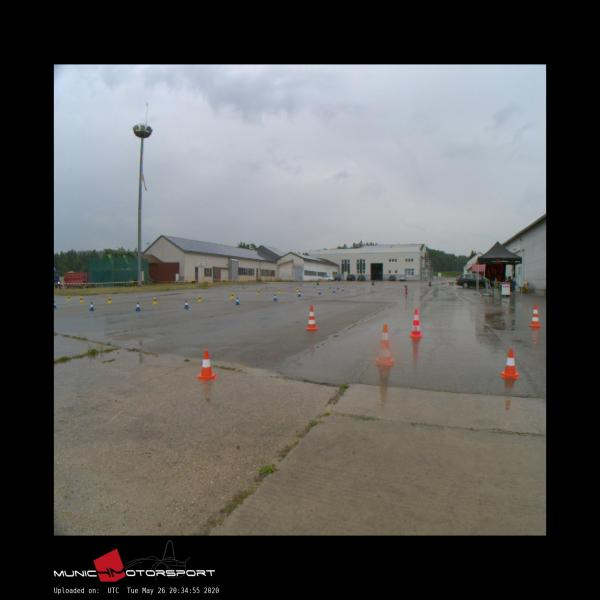blue_cone: (135, 302, 141, 310), (89, 302, 94, 310), (184, 300, 189, 308), (235, 297, 240, 305), (273, 294, 277, 300), (54, 300, 56, 308), (298, 291, 301, 296), (318, 289, 321, 294), (333, 288, 335, 292)
large_orange_cone: (374, 324, 394, 364), (409, 309, 422, 337), (306, 306, 318, 328), (530, 304, 540, 326)
orange_cone: (195, 350, 216, 380), (501, 349, 518, 378)
yellow_cone: (153, 297, 157, 304), (108, 297, 112, 303), (198, 296, 202, 301), (231, 292, 234, 298), (257, 289, 260, 295), (80, 297, 83, 302), (67, 296, 70, 300), (296, 287, 299, 291), (278, 288, 280, 293)
